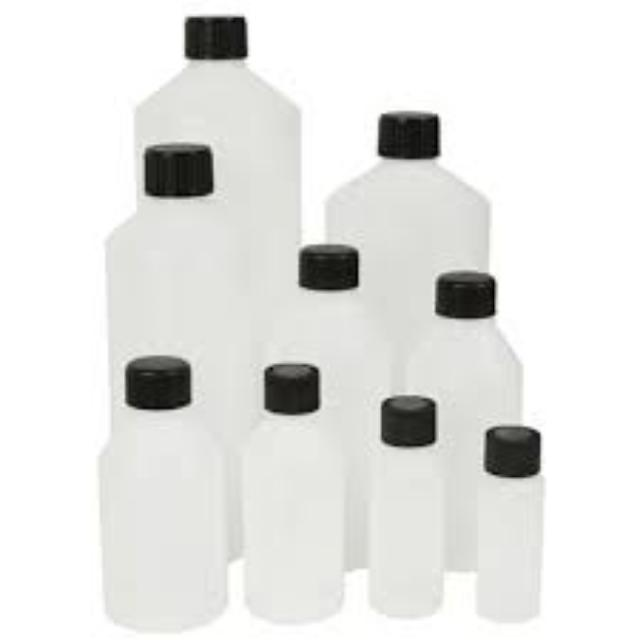plastic: (109, 142, 259, 560), (137, 15, 303, 366), (324, 109, 491, 393), (283, 245, 392, 569), (100, 356, 225, 627), (421, 273, 518, 569), (245, 363, 341, 620), (370, 399, 441, 614), (475, 426, 540, 619)
